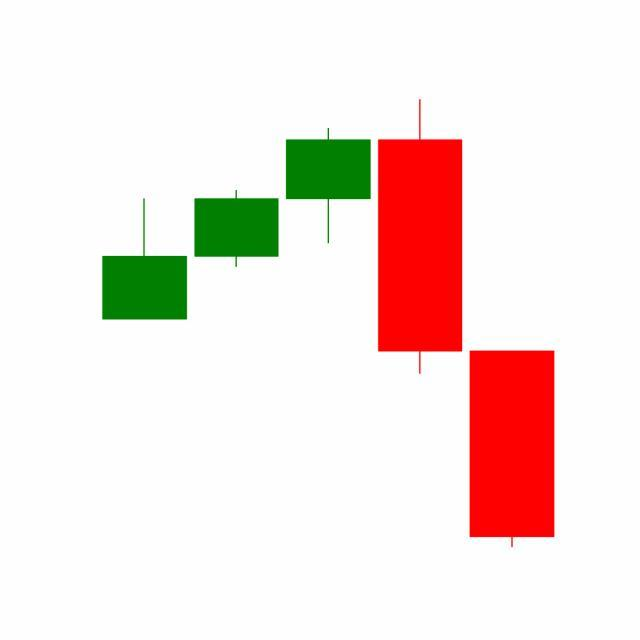Marubozu: (466, 349, 559, 550)
